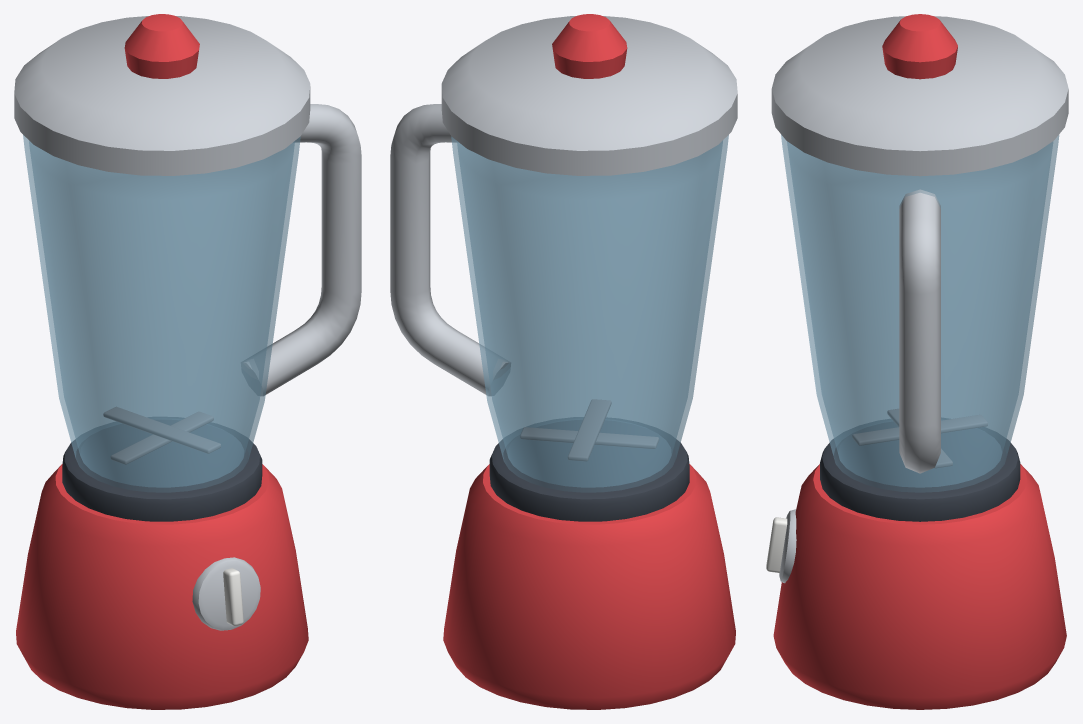
The model's file is liquidificador_vermelho.glb.
3 views of the same model, side by side, from view 1: azimuth 30°, elevation 25°; view 2: azimuth 150°, elevation 25°; view 3: azimuth 270°, elevation 25° (orthographic).
Parts seen in each view (by area): view 1: liquidificador_vermelho; view 2: liquidificador_vermelho; view 3: liquidificador_vermelho.
Boxes of the visible parts, x1,y1,x2,y2 form: liquidificador_vermelho: (14,14,361,709); liquidificador_vermelho: (390,14,737,709); liquidificador_vermelho: (766,14,1068,709).
Bounding box in the file's own units: 0.218 × 0.404 × 0.1751.
Materials: 2 (1 with a texture image).
